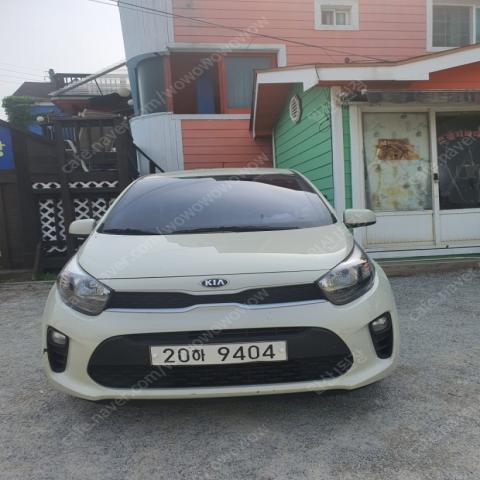LP: (146, 336, 294, 372)
